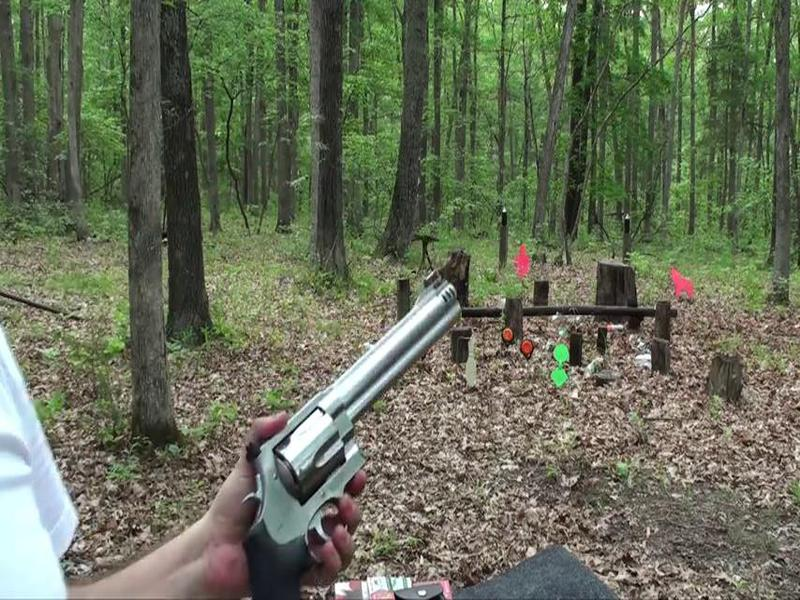Revolver: (236, 265, 468, 592)
